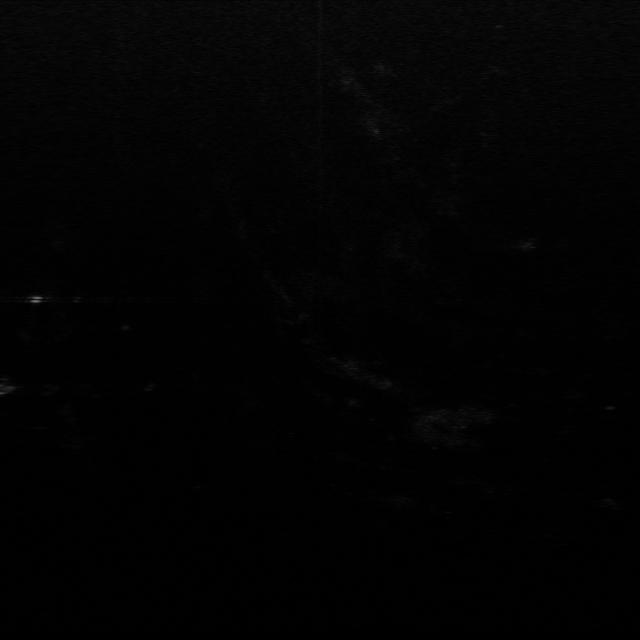rov: (0, 380, 16, 396)
